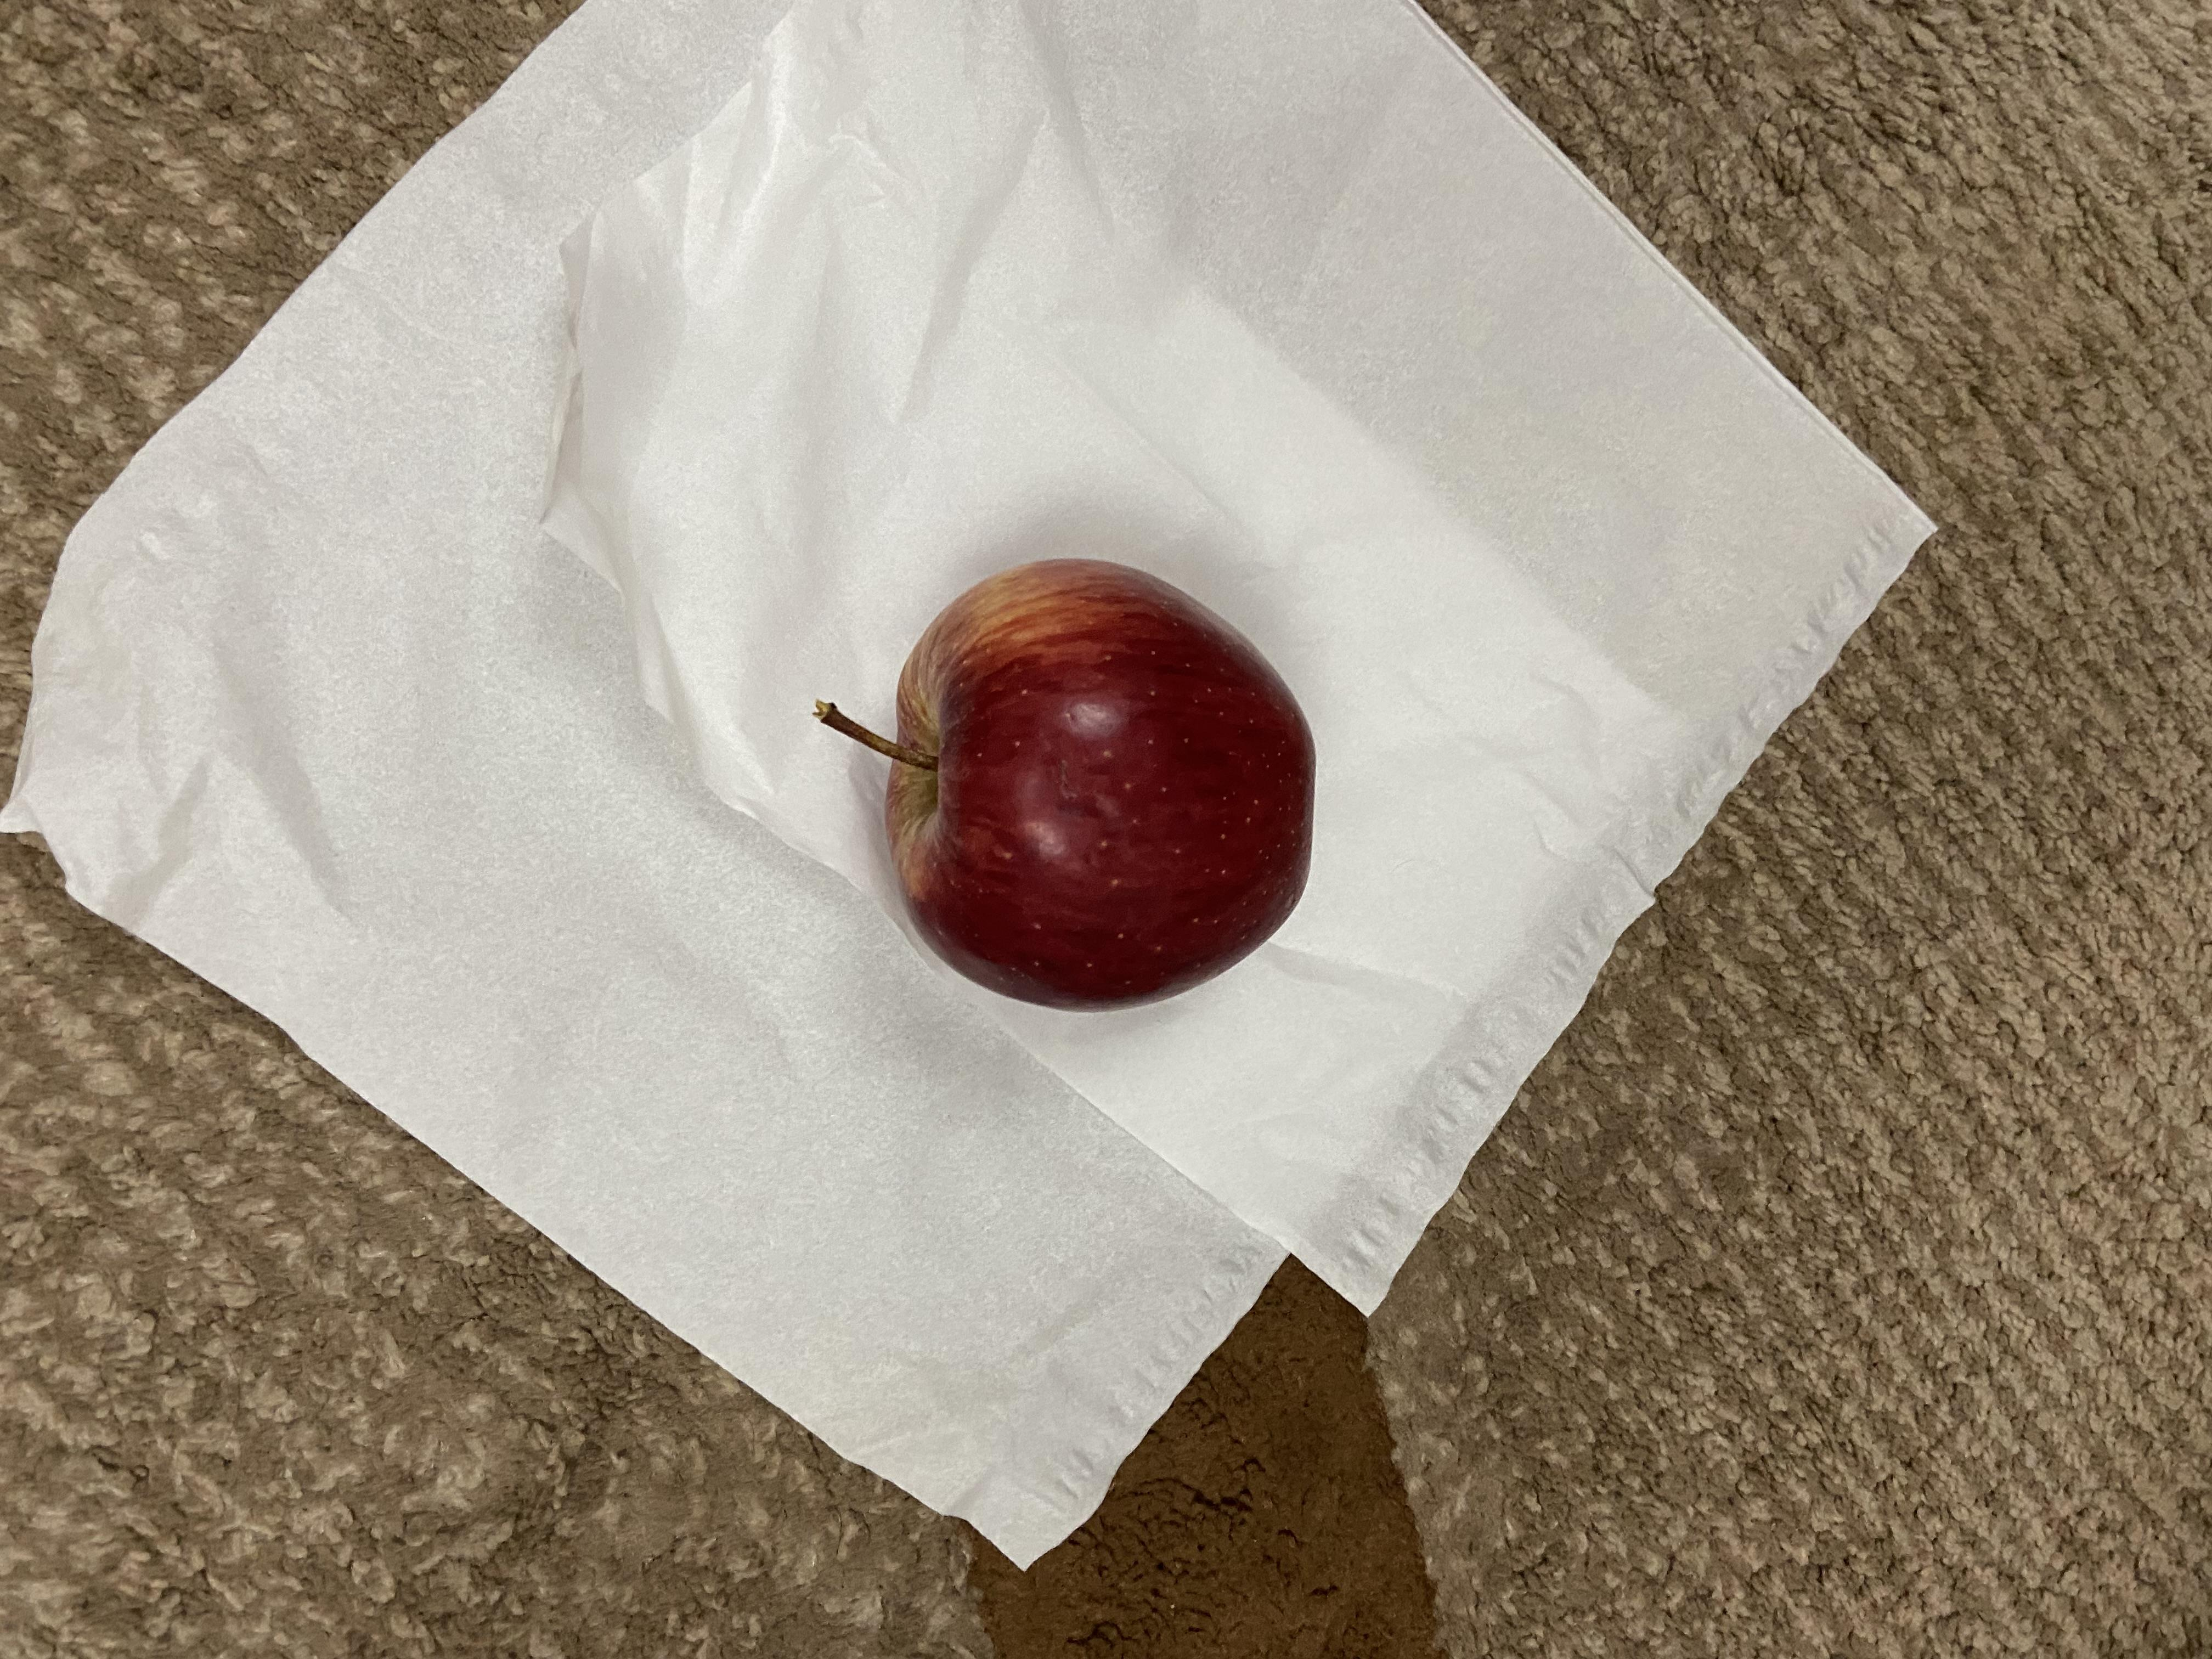Apple: (859, 596, 1479, 995)
